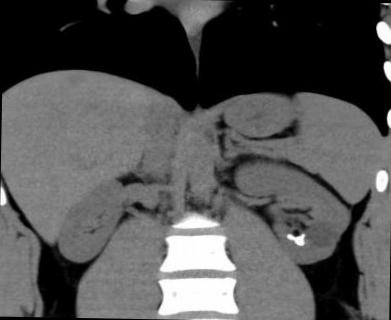Tas_Var: (294, 233, 307, 247), (286, 232, 294, 240)
